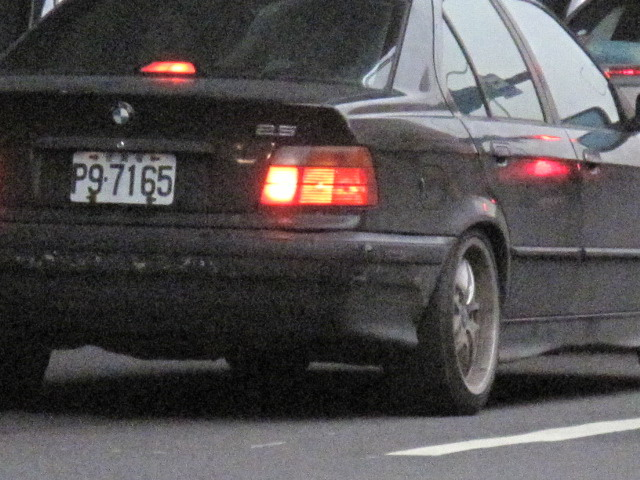plate: (68, 148, 180, 211)
